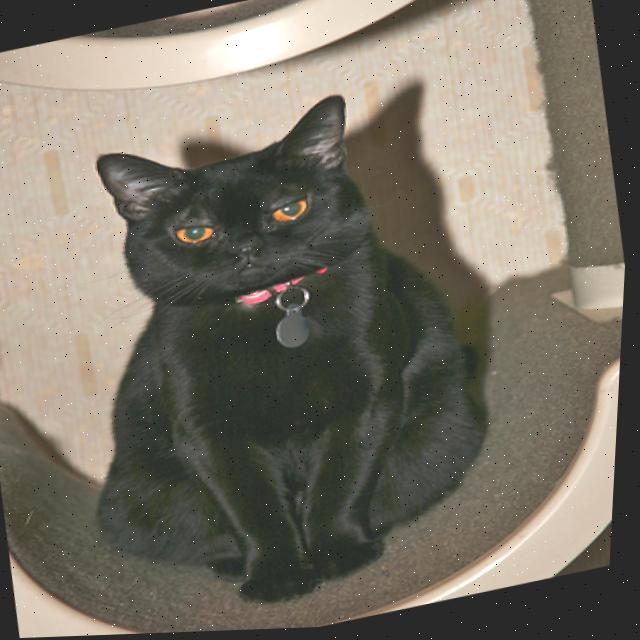Bombay: (25, 63, 536, 639)
